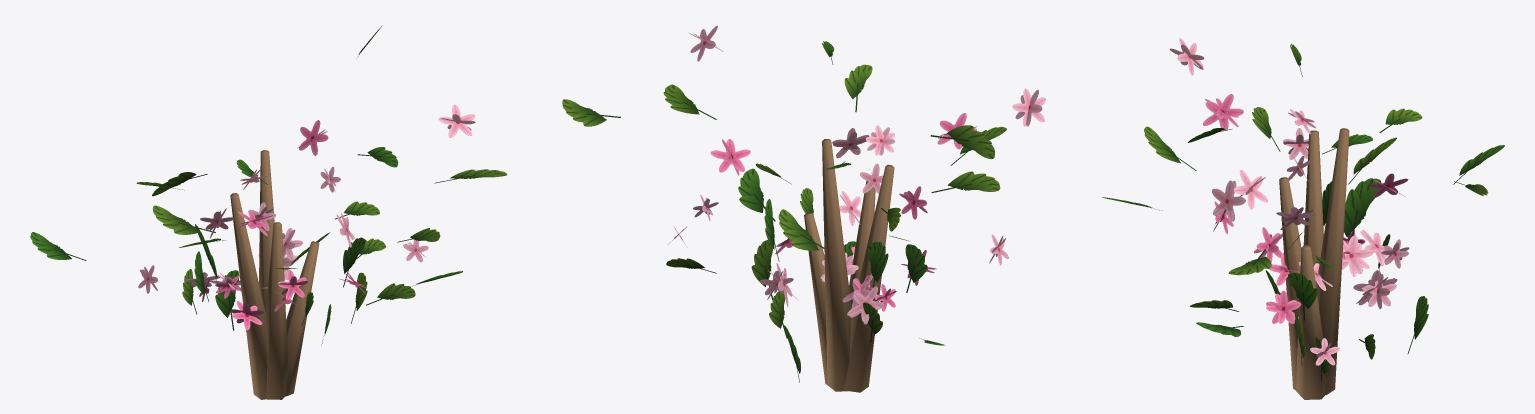
Rendered from pink_shrub_medium.glb.
The picture shows the model from 3 angles, left to right: view 1: azimuth 30°, elevation 25°; view 2: azimuth 150°, elevation 25°; view 3: azimuth 270°, elevation 25°; orthographic projection. The views are drawn at different scales.
Visible parts, largest first — view 1: pink_shrub_medium; view 2: pink_shrub_medium; view 3: pink_shrub_medium.
Part boxes in pixels (x1,y1,x2,y2): pink_shrub_medium: (30, 25, 507, 399); pink_shrub_medium: (562, 25, 1045, 392); pink_shrub_medium: (1102, 38, 1504, 399).
Size of the model in its own units: 1.9 by 1.27 by 1.58.
5 materials, 4 textured.
